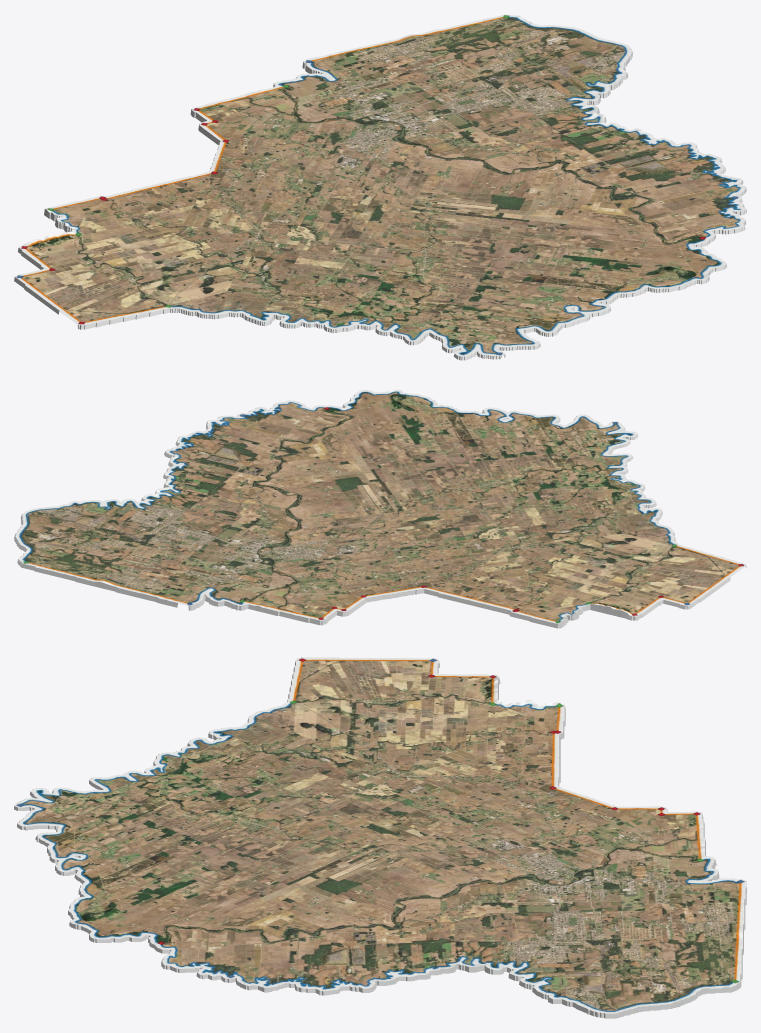
The picture shows the model from 3 angles, top to bottom: view 1: azimuth 30°, elevation 25°; view 2: azimuth 150°, elevation 25°; view 3: azimuth 270°, elevation 25°; orthographic projection. The views are drawn at different scales.
Size of the model in its own units: 0.9998 by 0.0117 by 0.8675.
1 material, 1 textured.
